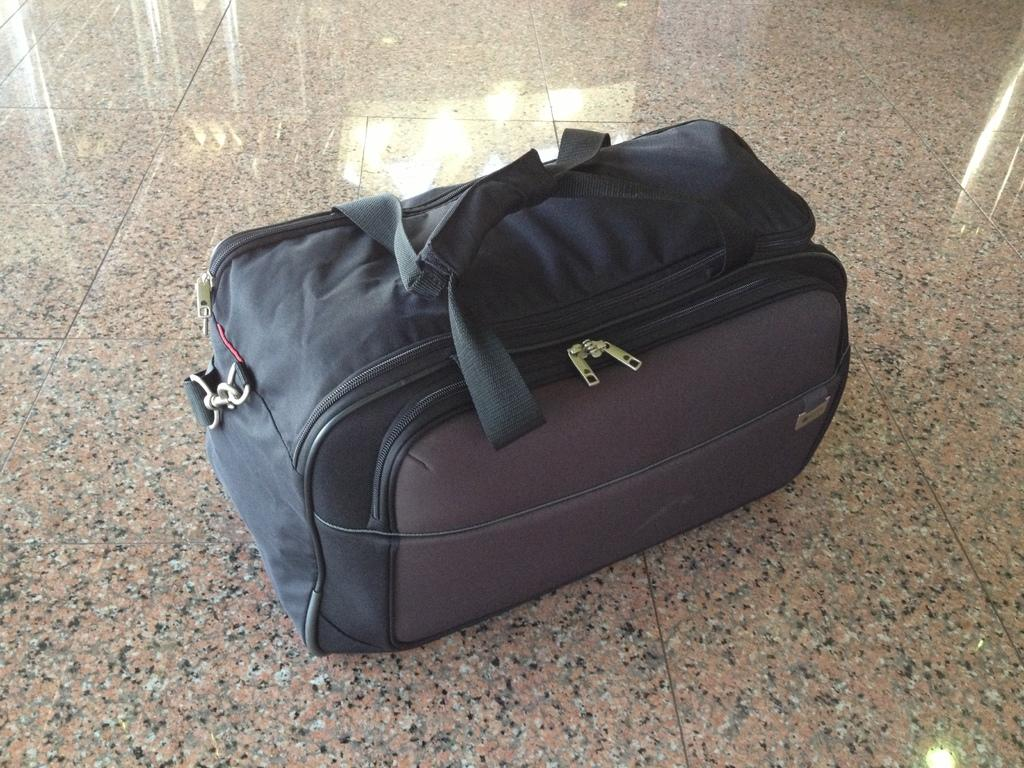Luggage-and-bags: (182, 119, 858, 659)
